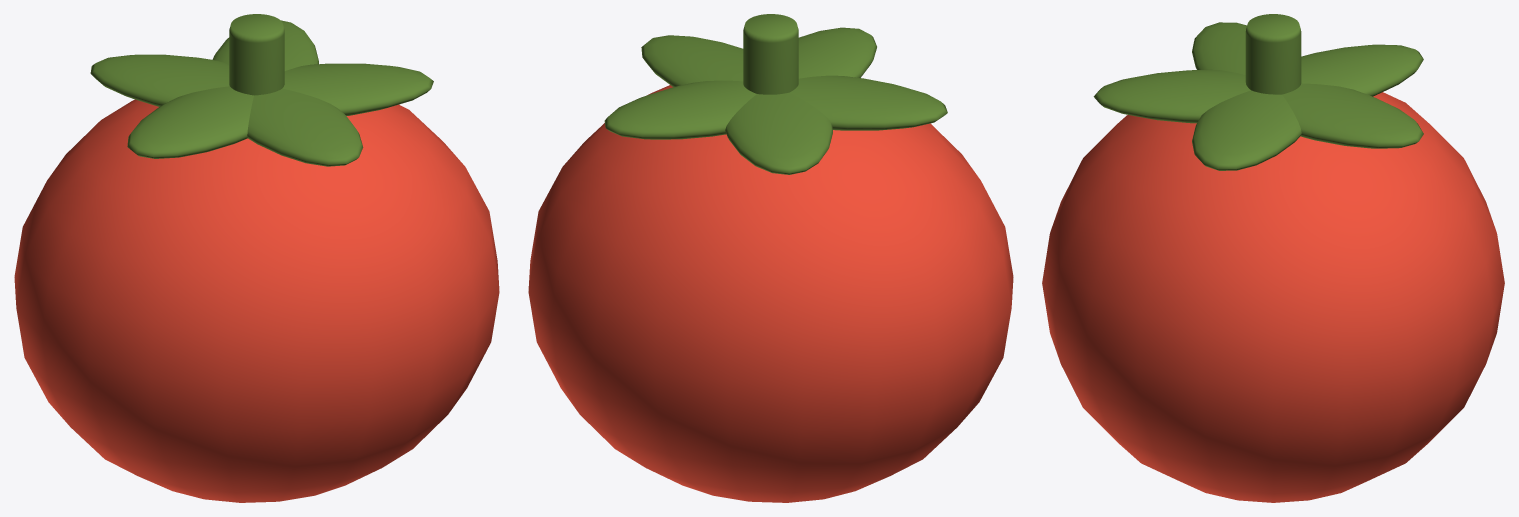
File: tomato-whole.obj
3 renders of one model, left to right at view 1: azimuth 30°, elevation 25°; view 2: azimuth 150°, elevation 25°; view 3: azimuth 270°, elevation 25°, orthographic.
Visible parts, largest first — view 1: tomato-whole_tomato, tomato-whole_leaf; view 2: tomato-whole_tomato, tomato-whole_leaf; view 3: tomato-whole_tomato, tomato-whole_leaf.
Boxes of the visible parts, <box> form: tomato-whole_tomato: <box>14,99,499,502</box>; tomato-whole_leaf: <box>90,14,433,166</box>; tomato-whole_tomato: <box>528,85,1013,502</box>; tomato-whole_leaf: <box>604,14,947,174</box>; tomato-whole_tomato: <box>1042,92,1504,502</box>; tomato-whole_leaf: <box>1093,14,1423,170</box>.
Size of the model in its own units: 0.25 by 0.252 by 0.234.
